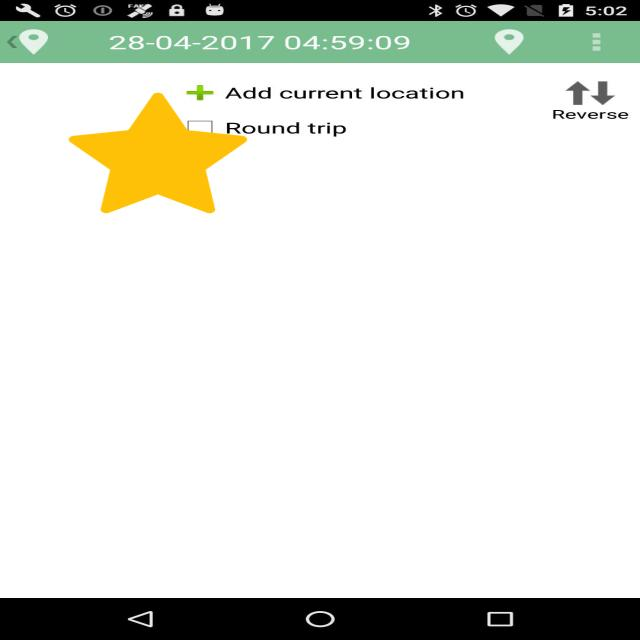forced continuity: (69, 93, 247, 213)
